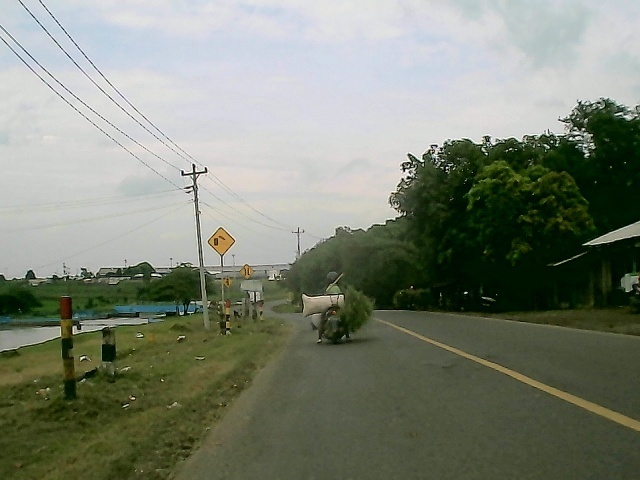Jembatan: (237, 263, 256, 281)
Peringatan tepi air: (206, 224, 237, 257)
